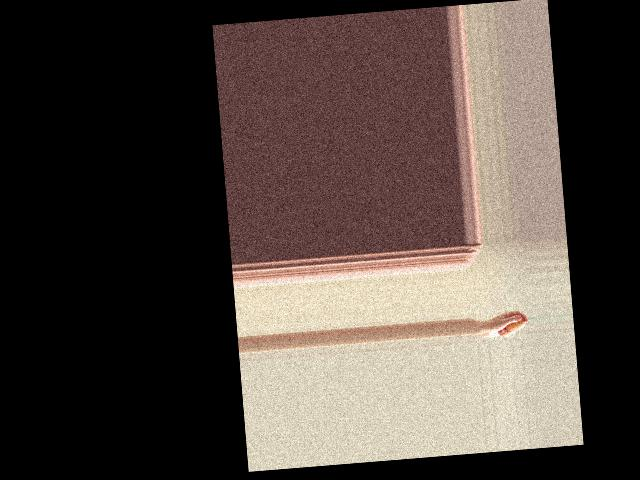egg: (504, 316, 525, 333)
